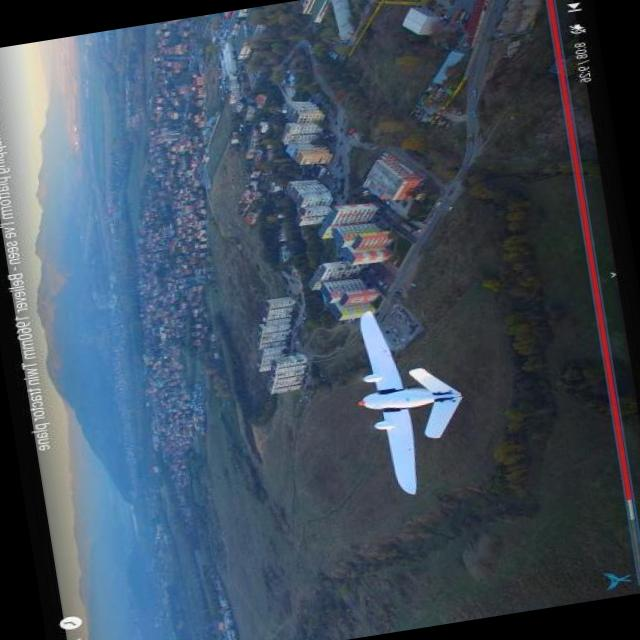UAV: (335, 278, 476, 501)
